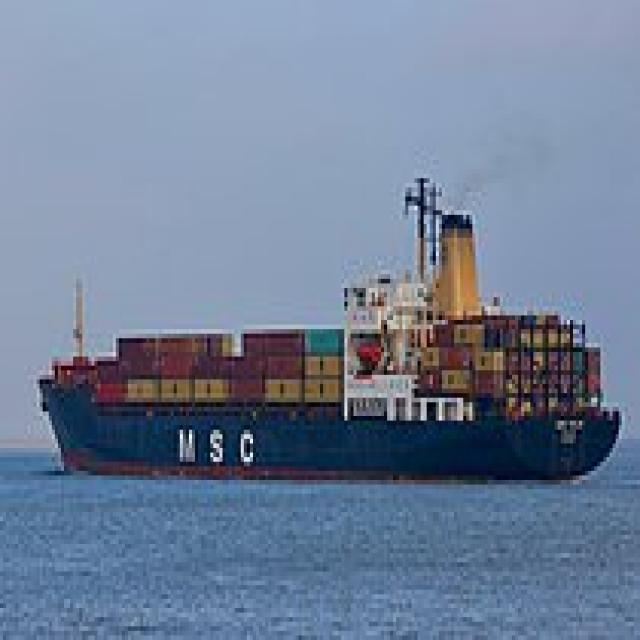Ship: (28, 166, 629, 495)
